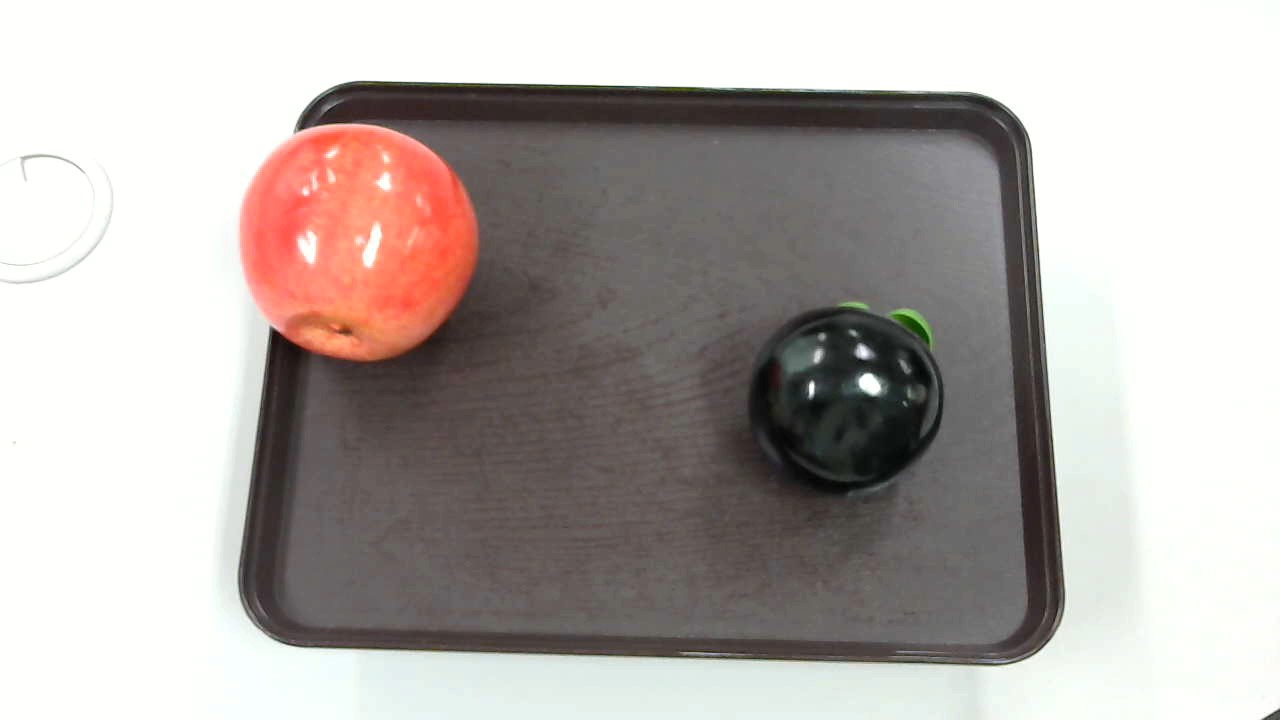mangosteen: (742, 295, 949, 496)
red apple: (234, 122, 478, 359)
